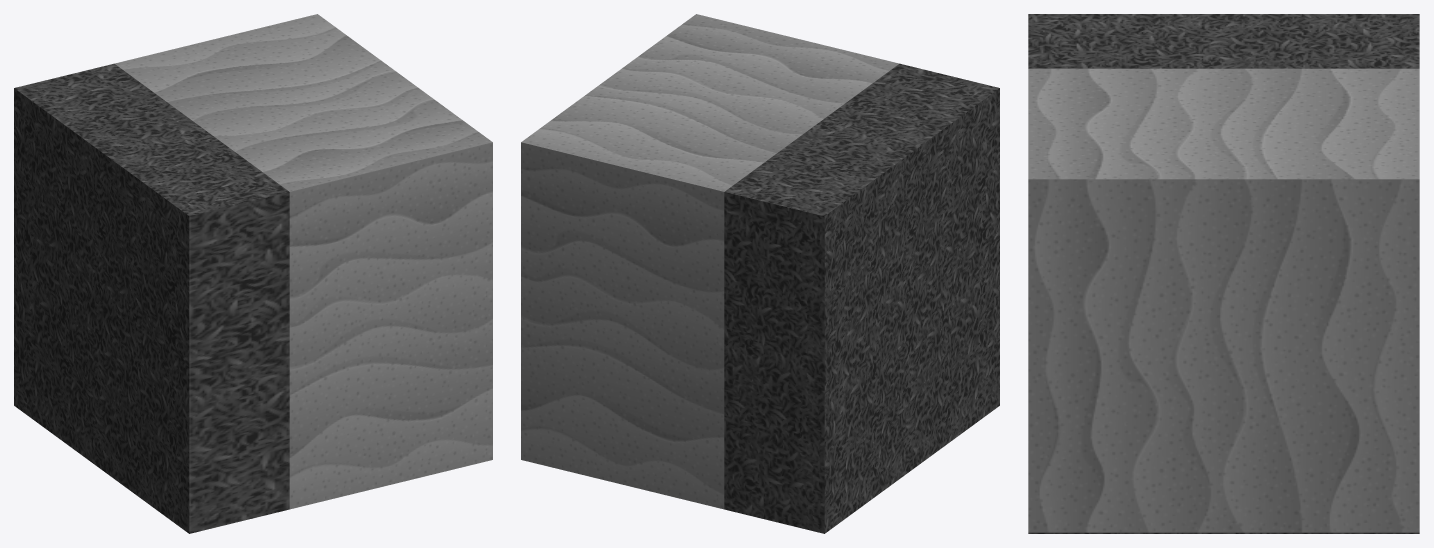
Rendered from SandGrassEdge.fbx.
The picture shows the model from 3 angles, left to right: view 1: azimuth 30°, elevation 25°; view 2: azimuth 150°, elevation 25°; view 3: azimuth 270°, elevation 25°; orthographic projection. The views are drawn at different scales.
Parts seen in each view (by area): view 1: SandGrassStraight; view 2: SandGrassStraight; view 3: SandGrassStraight.
Boxes of the visible parts, x1,y1,x2,y2 form: SandGrassStraight: (14,14,492,533); SandGrassStraight: (521,14,999,533); SandGrassStraight: (1028,14,1419,533).
Size of the model in its own units: 100 by 100 by 100.
